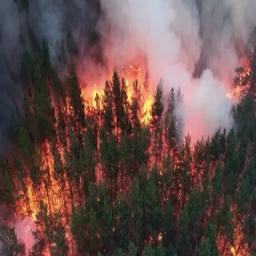Heavy smoke: (71, 0, 256, 71), (176, 75, 230, 145)
Low smoke: (3, 0, 58, 125)
Medium fire: (60, 66, 169, 164), (7, 145, 84, 229)
Small fire: (212, 209, 255, 256)
